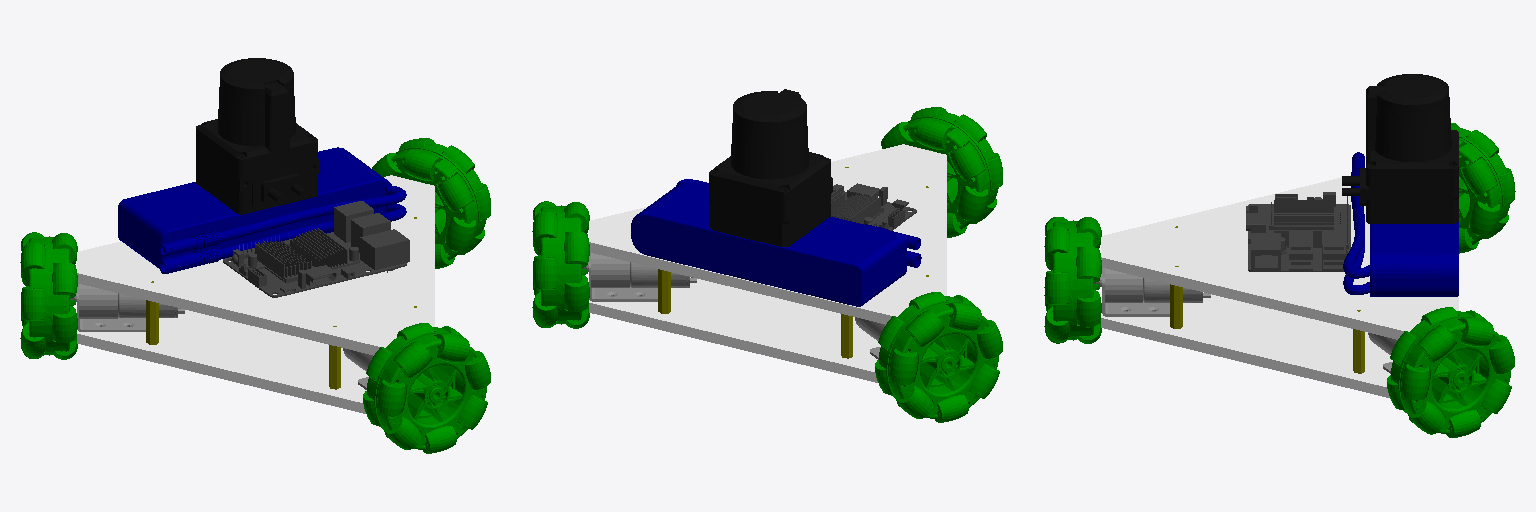
The robot description file, URDF, robot "rs232_urdf":
<robot
  name="rs232_urdf">
  <link
    name="base_link">
    <inertial>
      <origin
        xyz="6.9389E-18 0 0.021"
        rpy="0 0 0" />
      <mass
        value="0.3758" />
      <inertia
        ixx="0.0010234"
        ixy="1.1113E-18"
        ixz="-5.8281E-20"
        iyy="0.0010234"
        iyz="-7.5975E-20"
        izz="0.001801" />
    </inertial>
    <visual>
      <origin
        xyz="0 0 0"
        rpy="0 0 0" />
      <geometry>
        <mesh
          filename="package://rs232_urdf/meshes/base_link.stl" />
      </geometry>
      <material
        name="">
        <color
          rgba="1 1 1 0.5" />
      </material>
    </visual>
    <collision>
      <origin
        xyz="0 0 0"
        rpy="0 0 0" />
      <geometry>
        <mesh
          filename="package://rs232_urdf/meshes/base_link.stl" />
      </geometry>
    </collision>
  </link>
  <link
    name="wheel_1">
    <inertial>
      <origin
        xyz="-6.8252E-10 0.015486 2.3264E-10"
        rpy="0 0 0" />
      <mass
        value="0.06403" />
      <inertia
        ixx="2.4785E-05"
        ixy="8.0681E-14"
        ixz="-1.3866E-12"
        iyy="4.204E-05"
        iyz="-2.6161E-13"
        izz="2.4785E-05" />
    </inertial>
    <visual>
      <origin
        xyz="0 0 0"
        rpy="0 0 0" />
      <geometry>
        <mesh
          filename="package://rs232_urdf/meshes/Wheel_1.stl" />
      </geometry>
      <material
        name="">
        <color
          rgba="0 0.6 0 1" />
      </material>
    </visual>
    <collision>
      <origin
        xyz="0 0 0"
        rpy="0 0 0" />
      <geometry>
        <mesh
          filename="package://rs232_urdf/meshes/Wheel_1.stl" />
      </geometry>
    </collision>
  </link>
  <joint
    name="wheel_1"
    type="fixed">
    <origin
      xyz="-0.104316987298108 0.0602274406976133 0.0220000000000001"
      rpy="0 0.969193672224778 1.0471975511966" />
    <parent
      link="base_link" />
    <child
      link="wheel_1" />
    <axis
      xyz="0 1 0" />
  </joint>
  <link
    name="wheel_2">
    <inertial>
      <origin
        xyz="-6.8253E-10 0.010986 2.3265E-10"
        rpy="0 0 0" />
      <mass
        value="0.06403" />
      <inertia
        ixx="2.4785E-05"
        ixy="8.068E-14"
        ixz="-1.3865E-12"
        iyy="4.204E-05"
        iyz="-2.6161E-13"
        izz="2.4785E-05" />
    </inertial>
    <visual>
      <origin
        xyz="0 0 0"
        rpy="0 0 0" />
      <geometry>
        <mesh
          filename="package://rs232_urdf/meshes/Wheel_2.stl" />
      </geometry>
      <material
        name="">
        <color
          rgba="0 0.6 0 1" />
      </material>
    </visual>
    <collision>
      <origin
        xyz="0 0 0"
        rpy="0 0 0" />
      <geometry>
        <mesh
          filename="package://rs232_urdf/meshes/Wheel_2.stl" />
      </geometry>
    </collision>
  </link>
  <joint
    name="wheel_2"
    type="fixed">
    <origin
      xyz="0.108214101615138 0.0624774406976128 0.0220000000000001"
      rpy="0 0.969193672224778 -1.0471975511966" />
    <parent
      link="base_link" />
    <child
      link="wheel_2" />
    <axis
      xyz="0 1 0" />
  </joint>
  <link
    name="wheel_3">
    <inertial>
      <origin
        xyz="-6.8253E-10 0.010986 2.3265E-10"
        rpy="0 0 0" />
      <mass
        value="0.06403" />
      <inertia
        ixx="2.4785E-05"
        ixy="8.0679E-14"
        ixz="-1.3865E-12"
        iyy="4.204E-05"
        iyz="-2.6161E-13"
        izz="2.4785E-05" />
    </inertial>
    <visual>
      <origin
        xyz="0 0 0"
        rpy="0 0 0" />
      <geometry>
        <mesh
          filename="package://rs232_urdf/meshes/Wheel_3.stl" />
      </geometry>
      <material
        name="">
        <color
          rgba="0 0.6 0 1" />
      </material>
    </visual>
    <collision>
      <origin
        xyz="0 0 0"
        rpy="0 0 0" />
      <geometry>
        <mesh
          filename="package://rs232_urdf/meshes/Wheel_3.stl" />
      </geometry>
    </collision>
  </link>
  <joint
    name="wheel_3"
    type="fixed">
    <origin
      xyz="0 -0.124954881395227 0.0220000000000001"
      rpy="0 0.969193672224778 3.14159265358978" />
    <parent
      link="base_link" />
    <child
      link="wheel_3" />
    <axis
      xyz="0 -1 0" />
  </joint>
  <link
    name="battery">
    <inertial>
      <origin
        xyz="-0.00075841 6.8473E-08 0.022617"
        rpy="0 0 0" />
      <mass
        value="0.17955" />
      <inertia
        ixx="4.9199E-05"
        ixy="1.4648E-09"
        ixz="2.0668E-08"
        iyy="0.00034972"
        iyz="3.3532E-10"
        izz="0.00031851" />
    </inertial>
    <visual>
      <origin
        xyz="0 0 0"
        rpy="0 0 0" />
      <geometry>
        <mesh
          filename="package://rs232_urdf/meshes/battery.stl" />
      </geometry>
      <material
        name="">
        <color
          rgba="0 0 0.6 1" />
      </material>
    </visual>
    <collision>
      <origin
        xyz="0 0 0"
        rpy="0 0 0" />
      <geometry>
        <mesh
          filename="package://rs232_urdf/meshes/battery.stl" />
      </geometry>
    </collision>
  </link>
  <joint
    name="battery"
    type="fixed">
    <origin
      xyz="-0.000282032302750382 0.0241687836487032 0.0545"
      rpy="-1.5707963267949 0 1.66533453693773E-16" />
    <parent
      link="base_link" />
    <child
      link="battery" />
    <axis
      xyz="0 0 0" />
  </joint>
  <link
    name="boards">
    <inertial>
      <origin
        xyz="-0.0018623 0.10662 0.037992"
        rpy="0 0 0" />
      <mass
        value="0.021854" />
      <inertia
        ixx="1.6681E-05"
        ixy="-5.7409E-08"
        ixz="7.4007E-08"
        iyy="6.8978E-06"
        iyz="1.2736E-07"
        izz="2.1054E-05" />
    </inertial>
    <visual>
      <origin
        xyz="0 0 0"
        rpy="0 0 0" />
      <geometry>
        <mesh
          filename="package://rs232_urdf/meshes/boards.stl" />
      </geometry>
      <material
        name="">
        <color
          rgba="0.3 0.3 0.3 1" />
      </material>
    </visual>
    <collision>
      <origin
        xyz="0 0 0"
        rpy="0 0 0" />
      <geometry>
        <mesh
          filename="package://rs232_urdf/meshes/boards.stl" />
      </geometry>
    </collision>
  </link>
  <joint
    name="boards"
    type="fixed">
    <origin
      xyz="-0.00139994919999957 0.0721687836487032 0.00967499865000002"
      rpy="0 0 3.14159265358979" />
    <parent
      link="base_link" />
    <child
      link="boards" />
    <axis
      xyz="0 0 0" />
  </joint>
  <link
    name="laser_scanner">
    <inertial>
      <origin
        xyz="3.9624E-06 0.029713 -0.00064881"
        rpy="0 0 0" />
      <mass
        value="0.36783" />
      <inertia
        ixx="0.00020576"
        ixy="2.789E-08"
        ixz="4.748E-08"
        iyy="0.00012741"
        iyz="1.0406E-06"
        izz="0.00020037" />
    </inertial>
    <visual>
      <origin
        xyz="0 0 0"
        rpy="0 0 0" />
      <geometry>
        <mesh
          filename="package://rs232_urdf/meshes/laser.stl" />
      </geometry>
      <material
        name="">
        <color
          rgba="0.1 0.1 0.1 1" />
      </material>
    </visual>
    <collision>
      <origin
        xyz="0 0 0"
        rpy="0 0 0" />
      <geometry>
        <mesh
          filename="package://rs232_urdf/meshes/laser.stl" />
      </geometry>
    </collision>
  </link>
  <joint
    name="laser_scanner"
    type="fixed">
    <origin
      xyz="-0.000361567109112754 0.0471687836487032 0.067"
      rpy="1.5707963267949 0 -3.14159265358979" />
    <parent
      link="base_link" />
    <child
      link="laser_scanner" />
    <axis
      xyz="0 0 0" />
  </joint>
  <link
    name="motors">    
    <visual>
      <origin
        xyz="0 0 0"
        rpy="0 0 0" />
      <geometry>
        <mesh
          filename="package://rs232_urdf/meshes/motors.stl" />
      </geometry>
      <material
        name="">
        <color
          rgba="0.6 0.6 0.6 1" />
      </material>
    </visual>
    <collision>
      <origin
        xyz="0 0 0"
        rpy="0 0 0" />
      <geometry>
        <mesh
          filename="package://rs232_urdf/meshes/motors.stl" />
      </geometry>
    </collision>
  </link>
  <joint
    name="motors"
    type="fixed">
    <origin
      xyz="0 -0.067 0.022"
      rpy="3.14 -1.57 -3.14" />
    <parent
      link="base_link" />
    <child
      link="motors" />
    <axis
      xyz="0 0 0" />
  </joint>
  <link
    name="spacers">
    <inertial>
      <origin
        xyz="-0.081782 0.021 0.018349"
        rpy="0 0 0" />
      <mass
        value="0.005838" />
      <inertia
        ixx="2.1015E-05"
        ixy="-3.5029E-21"
        ixz="-8.4703E-20"
        iyy="4.104E-05"
        iyz="1.2359E-21"
        izz="2.1015E-05" />
    </inertial>
    <visual>
      <origin
        xyz="0 0 0"
        rpy="0 0 0" />
      <geometry>
        <mesh
          filename="package://rs232_urdf/meshes/spacers.stl" />
      </geometry>
      <material
        name="">
        <color
          rgba="0.5 0.5 0 1" />
      </material>
    </visual>
    <collision>
      <origin
        xyz="0 0 0"
        rpy="0 0 0" />
      <geometry>
        <mesh
          filename="package://rs232_urdf/meshes/spacers.stl" />
      </geometry>
    </collision>
  </link>
  <joint
    name="spacers"
    type="fixed">
    <origin
      xyz="0.056782032302757 0.0616506350946051 0.042"
      rpy="-1.5707963267949 0 1.0471975511966" />
    <parent
      link="base_link" />
    <child
      link="spacers" />
    <axis
      xyz="0 0 0" />
  </joint>
</robot>

--- Render facts (derived) ---
Views: 3 orthographic renders of the robot side by side, from view 1: azimuth 30°, elevation 25°; view 2: azimuth 150°, elevation 25°; view 3: azimuth 270°, elevation 25°.
Robot: rs232_urdf — 9 links, 8 joints (8 fixed); root link base_link; default pose: all joints at 0.
Links seen in each view (by area): view 1: base_link, battery, laser_scanner, wheel_3, boards, wheel_2, wheel_1, motors, spacers; view 2: base_link, battery, laser_scanner, wheel_1, wheel_3, wheel_2, motors, boards, spacers; view 3: base_link, laser_scanner, wheel_2, battery, boards, wheel_3, wheel_1, motors, spacers.
Boxes of the visible links, x1=… form: base_link: x1=77, y1=175, x2=434, y2=413; battery: x1=118, y1=147, x2=406, y2=273; laser_scanner: x1=196, y1=58, x2=319, y2=214; wheel_3: x1=363, y1=323, x2=490, y2=453; boards: x1=223, y1=201, x2=409, y2=297; wheel_2: x1=372, y1=138, x2=490, y2=268; wheel_1: x1=20, y1=232, x2=77, y2=359; motors: x1=70, y1=284, x2=372, y2=389; spacers: x1=146, y1=217, x2=416, y2=389; base_link: x1=589, y1=144, x2=946, y2=382; battery: x1=631, y1=179, x2=921, y2=306; laser_scanner: x1=709, y1=89, x2=832, y2=246; wheel_1: x1=875, y1=292, x2=1002, y2=422; wheel_3: x1=881, y1=107, x2=1002, y2=237; wheel_2: x1=532, y1=201, x2=589, y2=328; motors: x1=582, y1=253, x2=885, y2=359; boards: x1=831, y1=183, x2=916, y2=230; spacers: x1=658, y1=167, x2=928, y2=358; base_link: x1=1101, y1=175, x2=1458, y2=397; laser_scanner: x1=1342, y1=74, x2=1458, y2=223; wheel_2: x1=1387, y1=307, x2=1514, y2=437; battery: x1=1343, y1=152, x2=1458, y2=296; boards: x1=1246, y1=192, x2=1350, y2=271; wheel_3: x1=1044, y1=217, x2=1101, y2=343; wheel_1: x1=1451, y1=123, x2=1515, y2=253; motors: x1=1094, y1=268, x2=1397, y2=373; spacers: x1=1170, y1=226, x2=1364, y2=373.
Size in the robot's own frame: 0.2909 by 0.2542 by 0.1494 metres.
9 mesh visuals loaded from 9 distinct referenced files (9 binary STL).